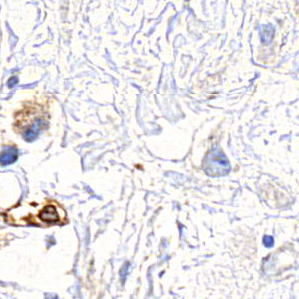Lymphocyte: (37, 202, 66, 226)
